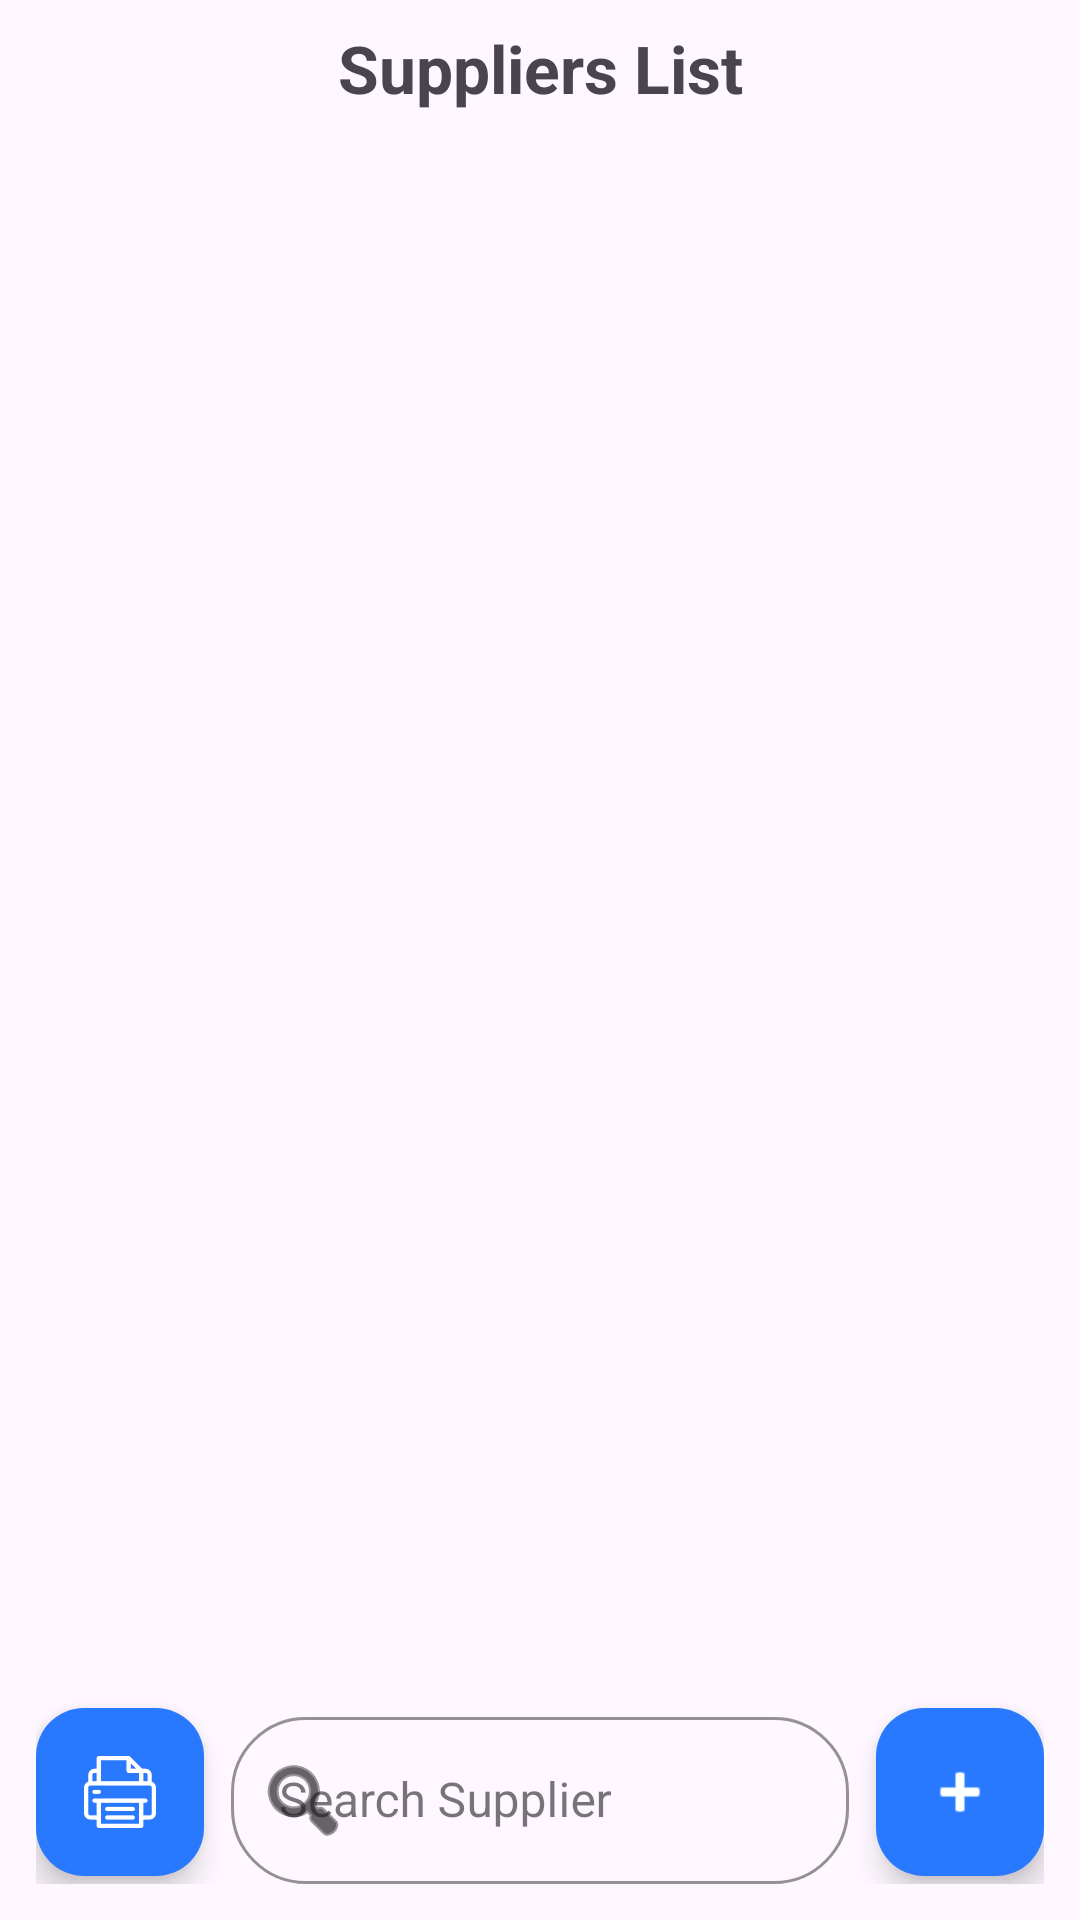

Screen size 1080*1920. Icon name, then its box in pixels as Rect(x1, y1, x2, y2):
Add Supplier: Rect(876, 1708, 1044, 1876)
Print: Rect(36, 1708, 204, 1876)
